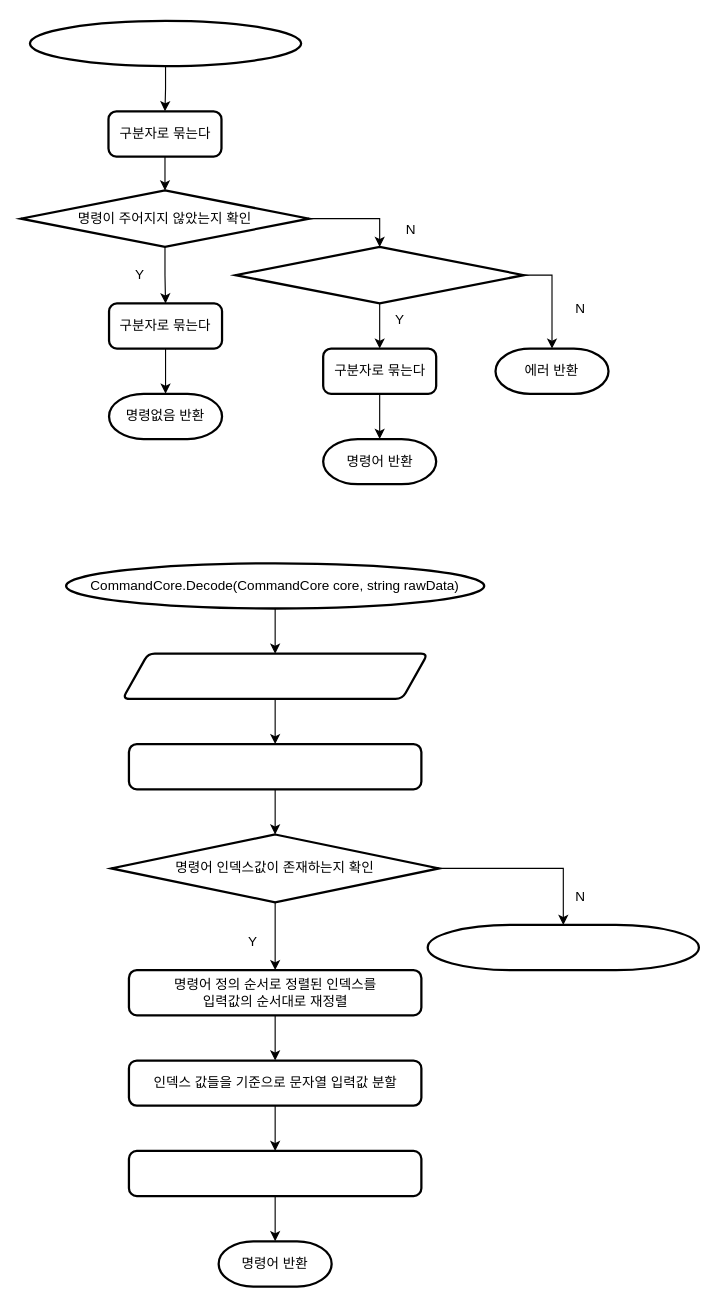
This 719x1306 diagram has some shape labels left out. The box of each missing label's shape, as (x1, y1, x2, y2) in pixels:
CommandCore.GetCommand(int index): (28, 19, 302, 67)
Dictionary<int, List<int>> commandPosRaw: (121, 652, 428, 699)
구분자를 기반으로 명령어의 인덱스값을 저장 인덱스는 정의된 명령어 순으로 정렬됨: (127, 742, 422, 790)
분할된 문자열을 명령어 모음으로 가공: (127, 1149, 422, 1197)
올바른 명령인지 확인: (234, 245, 524, 304)
전체 입력값에 대한 디폴트 명령어 반환: (426, 923, 699, 971)
